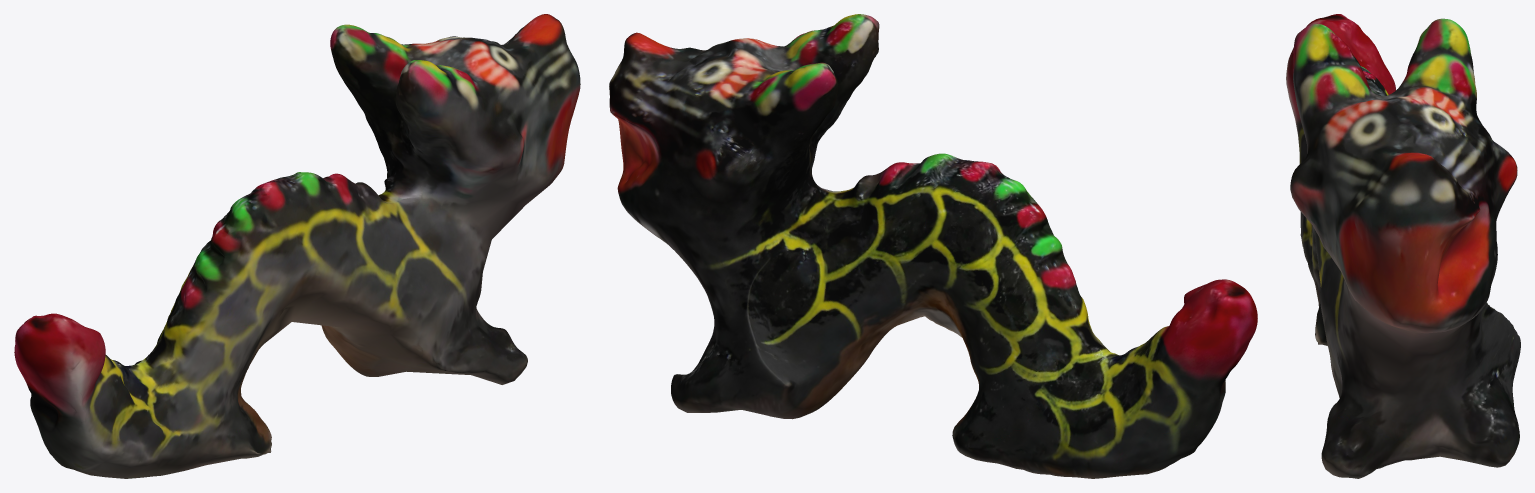
The picture shows the model from 3 angles, left to right: view 1: azimuth 30°, elevation 25°; view 2: azimuth 150°, elevation 25°; view 3: azimuth 270°, elevation 25°; orthographic projection. The views are drawn at different scales.
Size of the model in its own units: 1.02 by 0.6147 by 0.3182.
1 material, 1 textured.
